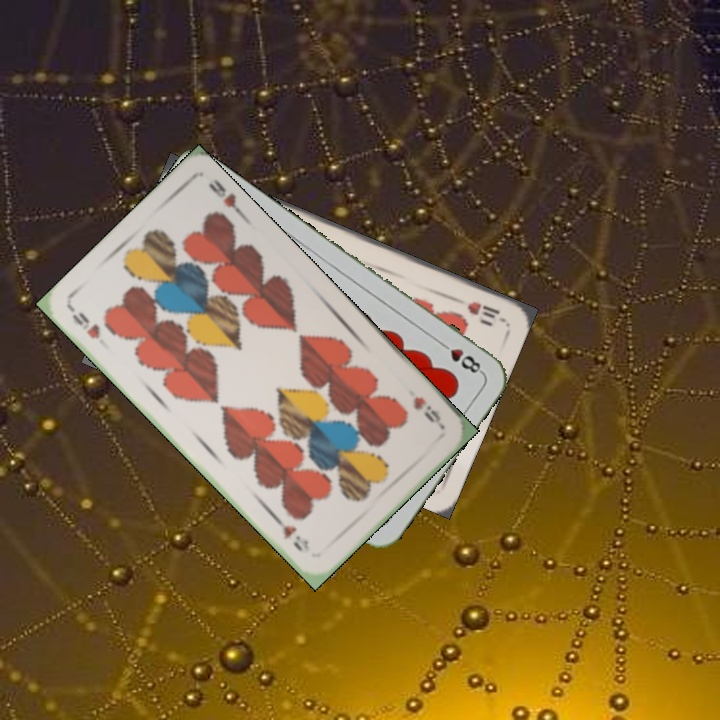H10: (463, 297, 502, 321)
H8: (434, 336, 485, 376)
H9: (409, 392, 446, 431), (66, 303, 103, 342)
